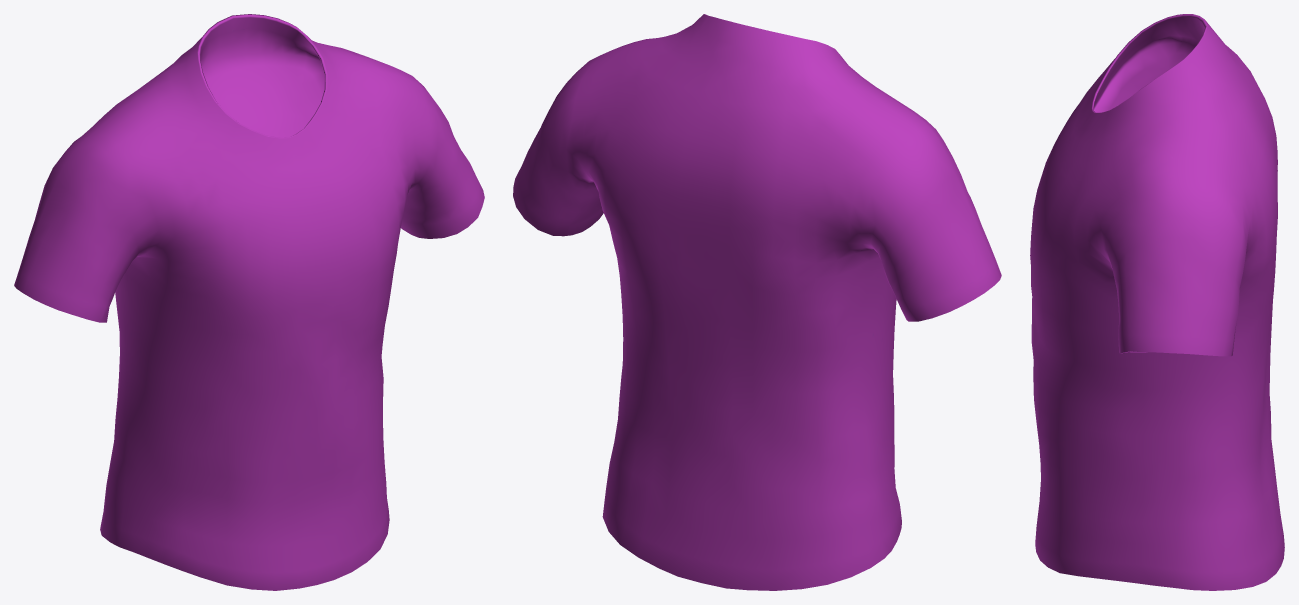
Rendered from shirt_1.glb.
3 views of the same model, side by side, from view 1: azimuth 30°, elevation 25°; view 2: azimuth 150°, elevation 25°; view 3: azimuth 270°, elevation 25° (orthographic). The views are drawn at different scales.
Visible parts, largest first — view 1: node_id107; view 2: node_id107; view 3: node_id107.
Part boxes in pixels (bbox=[...]): node_id107: bbox=[14, 14, 484, 590]; node_id107: bbox=[513, 14, 1001, 590]; node_id107: bbox=[1030, 14, 1284, 590].
Size of the model in its own units: 0.4767 by 0.512 by 0.2267.
1 material, 1 textured.
